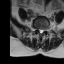CCS_normal: (40, 27, 42, 36)
LFS_normal: (44, 26, 46, 33)
LLS_normal: (42, 27, 44, 34)
RFS_severe_stenosis: (36, 26, 38, 32)
RLS_normal: (38, 27, 40, 34)
